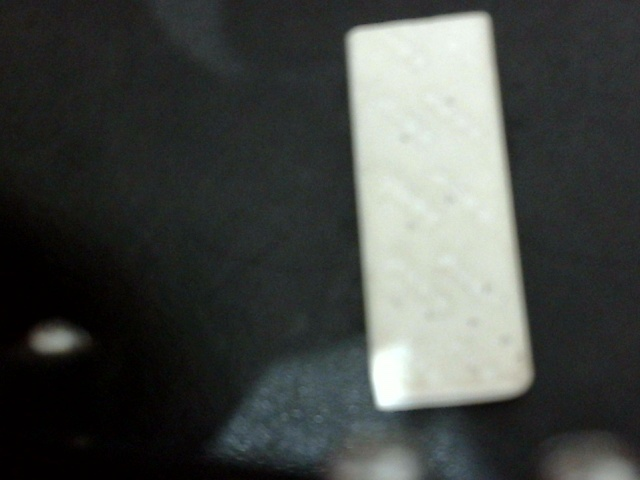eraser: (330, 21, 538, 407)
